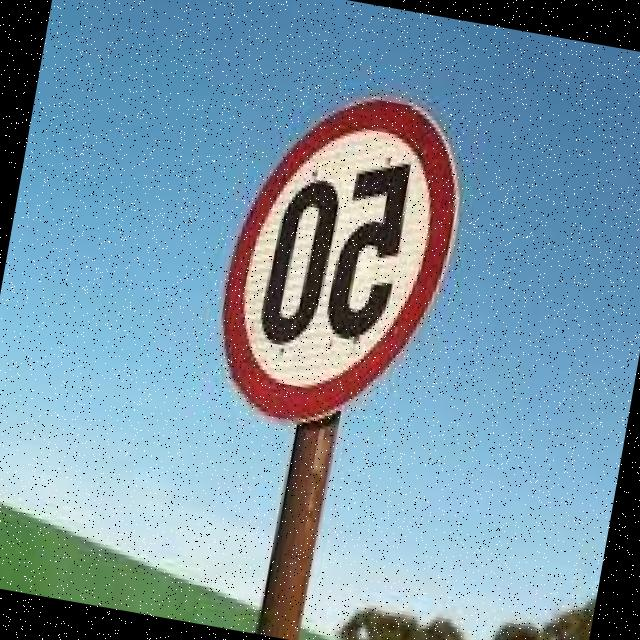speed_limit_50: (186, 61, 487, 448)
